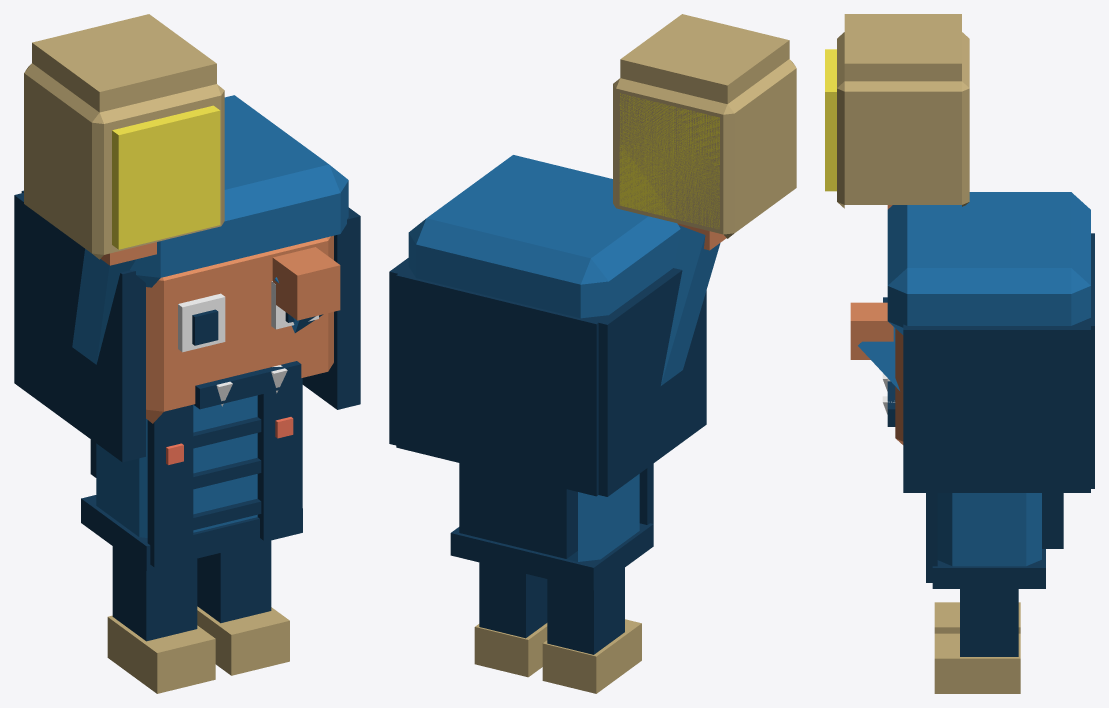
File: blinder_r15.glb
3 views of the same model, side by side, from view 1: azimuth 30°, elevation 25°; view 2: azimuth 150°, elevation 25°; view 3: azimuth 270°, elevation 25° (orthographic). The views are drawn at different scales.
Parts seen in each view (by area): view 1: blinder_r15_mesh; view 2: blinder_r15_mesh; view 3: blinder_r15_mesh.
Part boxes in pixels (x1,y1,x2,y2): blinder_r15_mesh: (14, 14, 360, 693); blinder_r15_mesh: (389, 14, 796, 693); blinder_r15_mesh: (825, 14, 1094, 693).
Bounding box in the file's own units: 0.7607 × 1.6 × 0.6773.
1 material, 1 textured.
